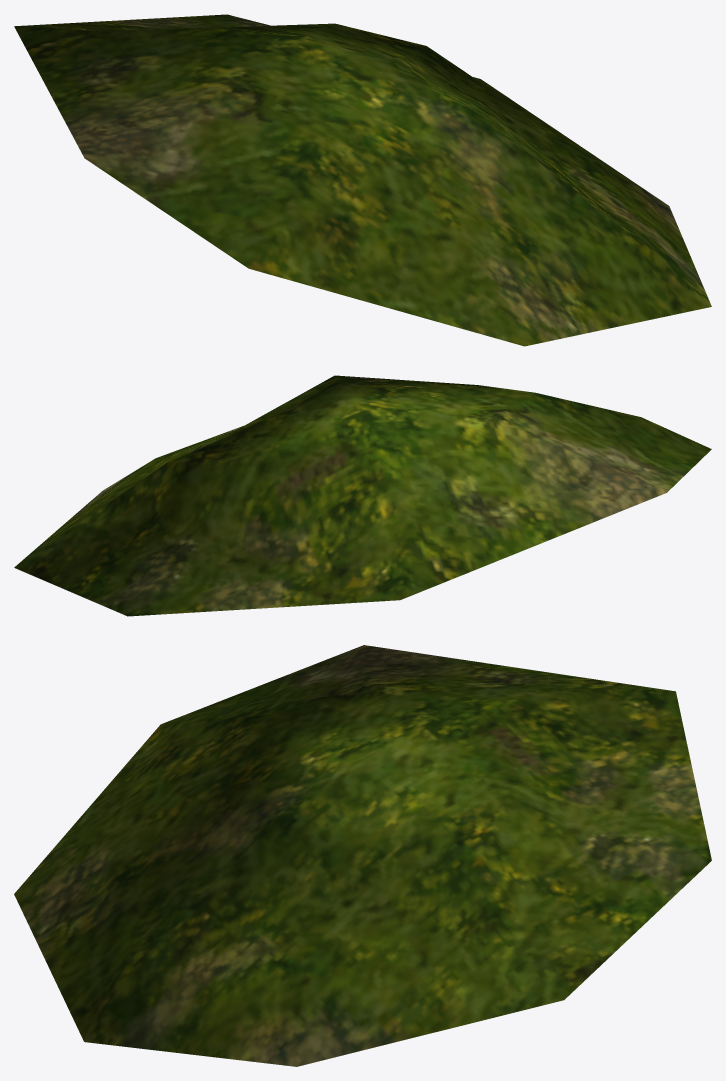
The model's file is OVERHILL_A_01_ROCK205.fbx.
3 renders of one model, top to bottom at view 1: azimuth 30°, elevation 25°; view 2: azimuth 150°, elevation 25°; view 3: azimuth 270°, elevation 25°, orthographic. The views are drawn at different scales.
Parts seen in each view (by area): view 1: OVERHILL_A_01_ROCK205; view 2: OVERHILL_A_01_ROCK205; view 3: OVERHILL_A_01_ROCK205.
Boxes of the visible parts, left/top/right/bottom form: OVERHILL_A_01_ROCK205: left=14, top=14, right=711, bottom=346; OVERHILL_A_01_ROCK205: left=14, top=375, right=711, bottom=616; OVERHILL_A_01_ROCK205: left=14, top=645, right=711, bottom=1066.
Bounding box in the file's own units: 10184 × 3555 × 11284.
1 material, 1 textured.
